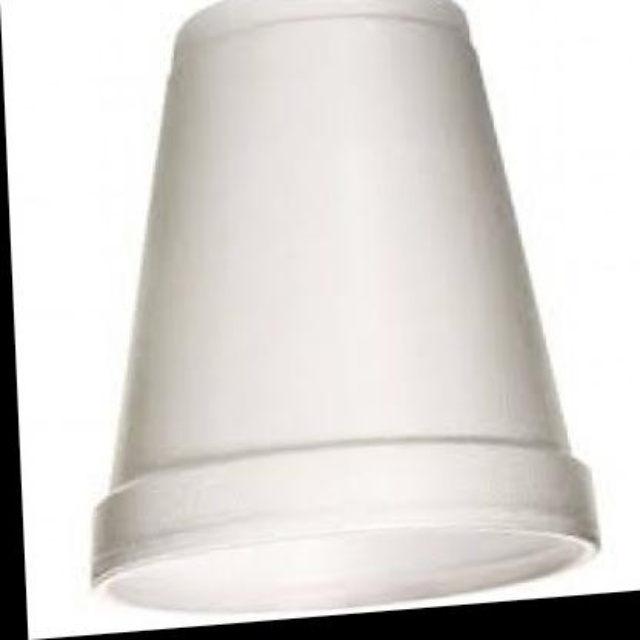trash: (92, 0, 597, 612)
